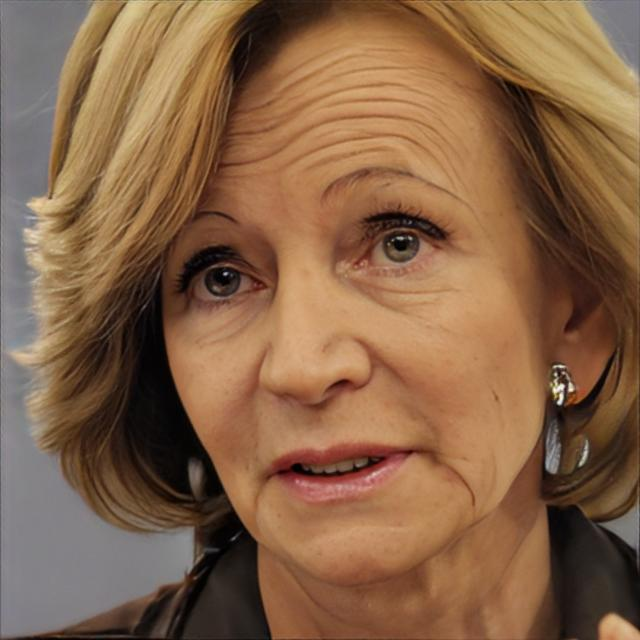surprise: (160, 8, 548, 588)
